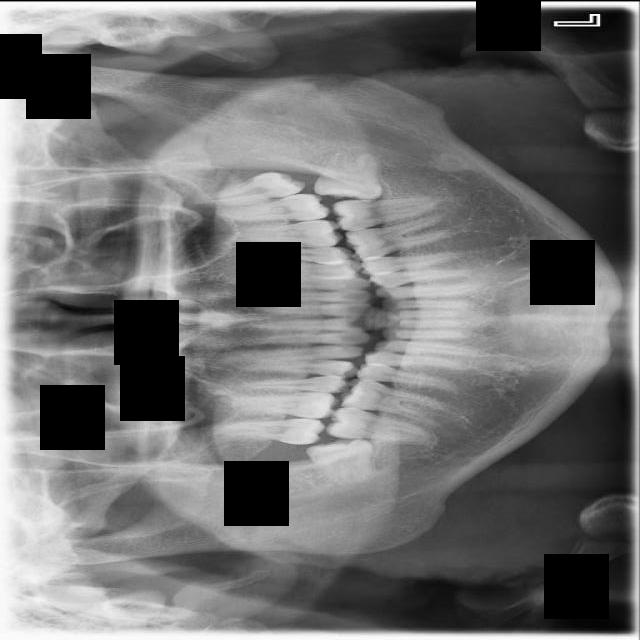52: (337, 372, 391, 418)
73: (560, 26, 568, 28)
BioHorizons Implant: (206, 192, 331, 225)
BioLife Implant: (191, 164, 307, 211)
Biomet 3i Implant: (312, 147, 387, 203)
Blue Sky Bio Implant: (330, 194, 438, 231)
Caries: (202, 416, 327, 446)
Implant: (324, 405, 432, 443)
Keystone Dental Implant: (304, 431, 381, 495)
